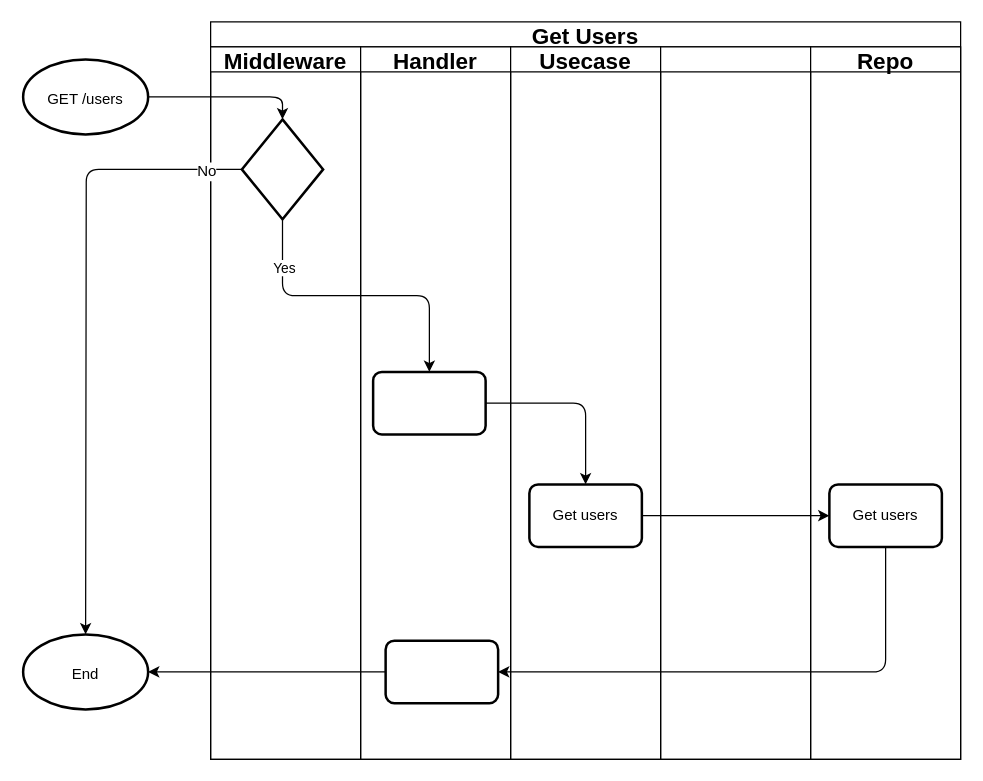
Some shapes in this 983 by 781 pixel diagram are drawn without their labels. Here are the shapes that lost their labels. From the top down, the box of each, then its label:
(240, 118, 324, 220): token header valid?
(371, 370, 486, 435): Call usecase get users
(659, 46, 811, 759): Proxy
(384, 639, 499, 704): map response & handle error
